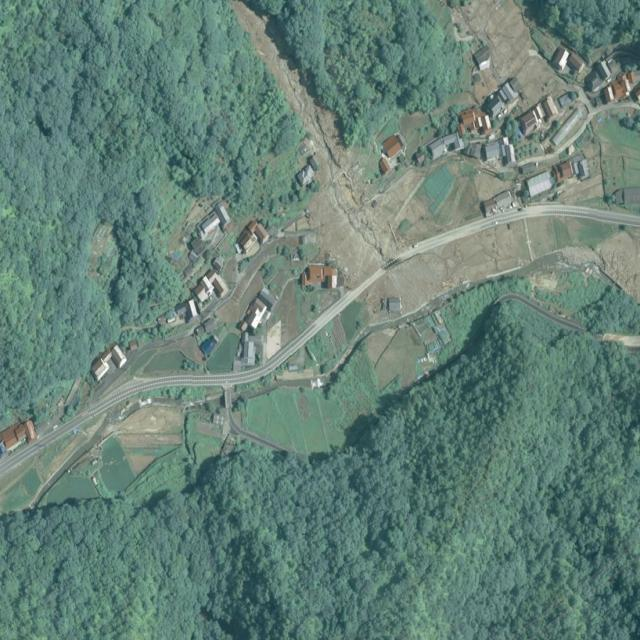landslide: (232, 1, 388, 284)
